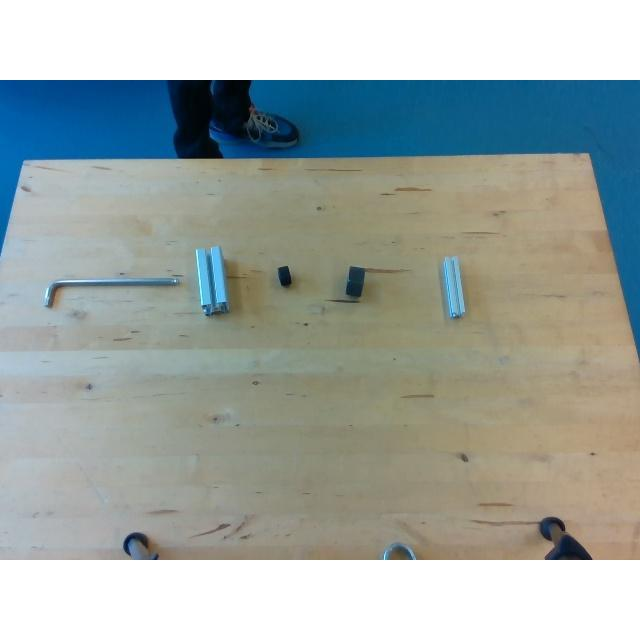AllenKey: (42, 276, 178, 308)
F20_20_G: (441, 256, 464, 316)
M20: (279, 265, 291, 287)
M30: (344, 266, 364, 298)
S40_40_G: (196, 245, 228, 313)
